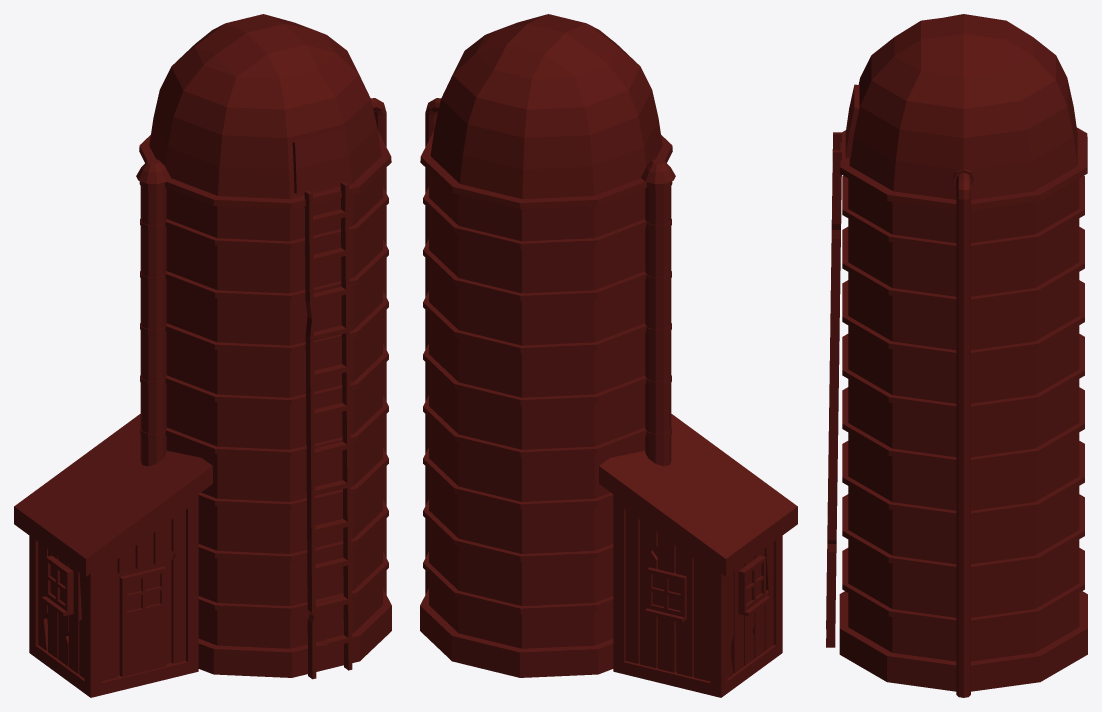
File: farm.silo_house.t2.glb
The picture shows the model from 3 angles, left to right: view 1: azimuth 30°, elevation 25°; view 2: azimuth 150°, elevation 25°; view 3: azimuth 270°, elevation 25°; orthographic projection. The views are drawn at different scales.
Size of the model in its own units: 0.5888 by 1 by 0.3871.
